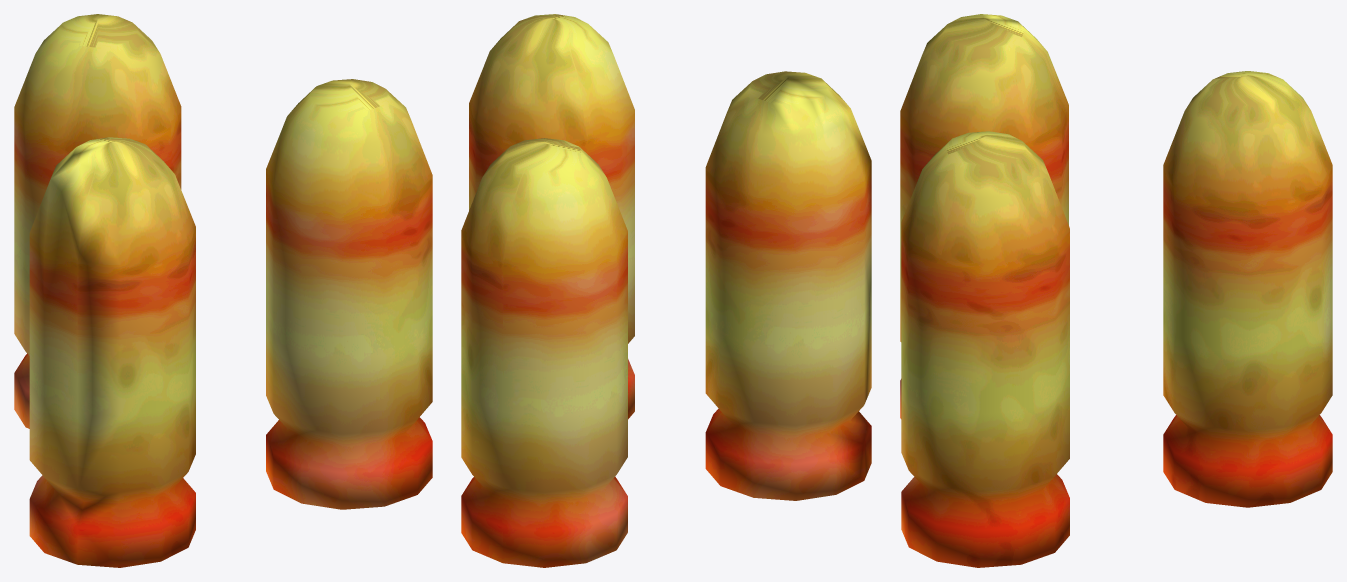
File: bullet_3.glb
The picture shows the model from 3 angles, left to right: view 1: azimuth 30°, elevation 25°; view 2: azimuth 150°, elevation 25°; view 3: azimuth 270°, elevation 25°; orthographic projection.
Visible parts, largest first — view 1: bulletMesh; view 2: bulletMesh; view 3: bulletMesh.
Boxes of the visible parts, x1,y1,x2,y2 form: bulletMesh: [14, 14, 432, 567]; bulletMesh: [461, 14, 871, 567]; bulletMesh: [900, 14, 1332, 567].
Bounding box in the file's own units: 1.05 × 1.03 × 1.02.
1 material, 1 textured.
